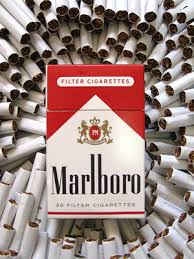marlboro: (46, 66, 145, 219)
